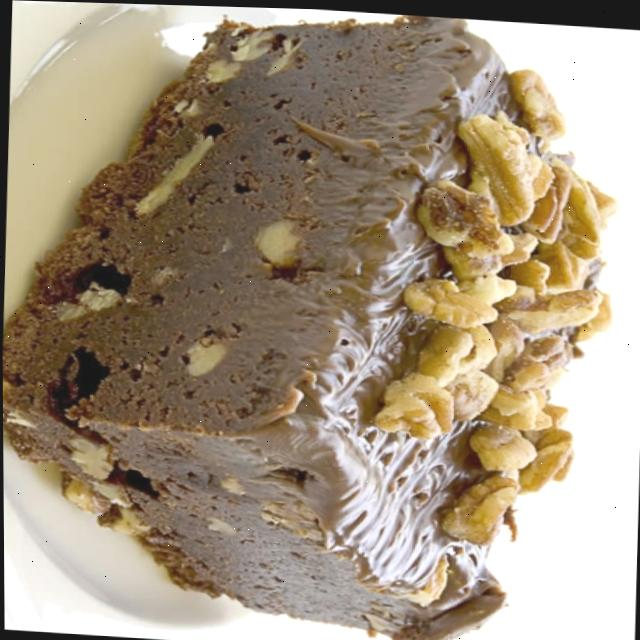蛋糕甜品: (9, 4, 630, 640)
